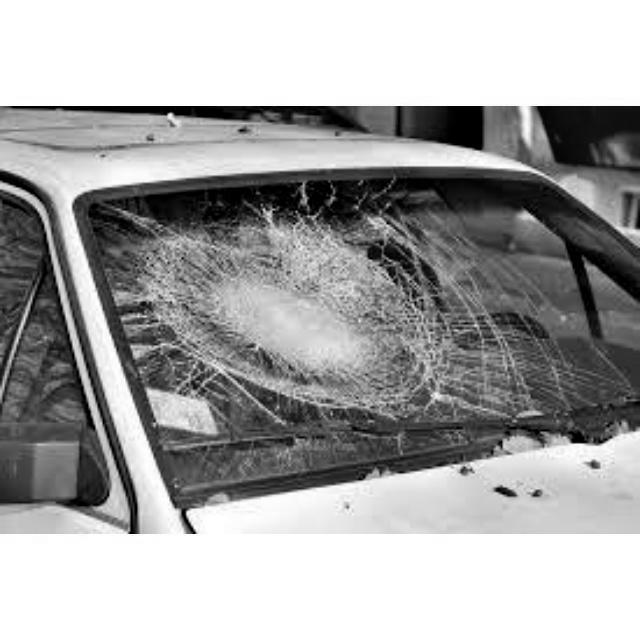Front-windscreen-damage: (29, 164, 638, 506)
